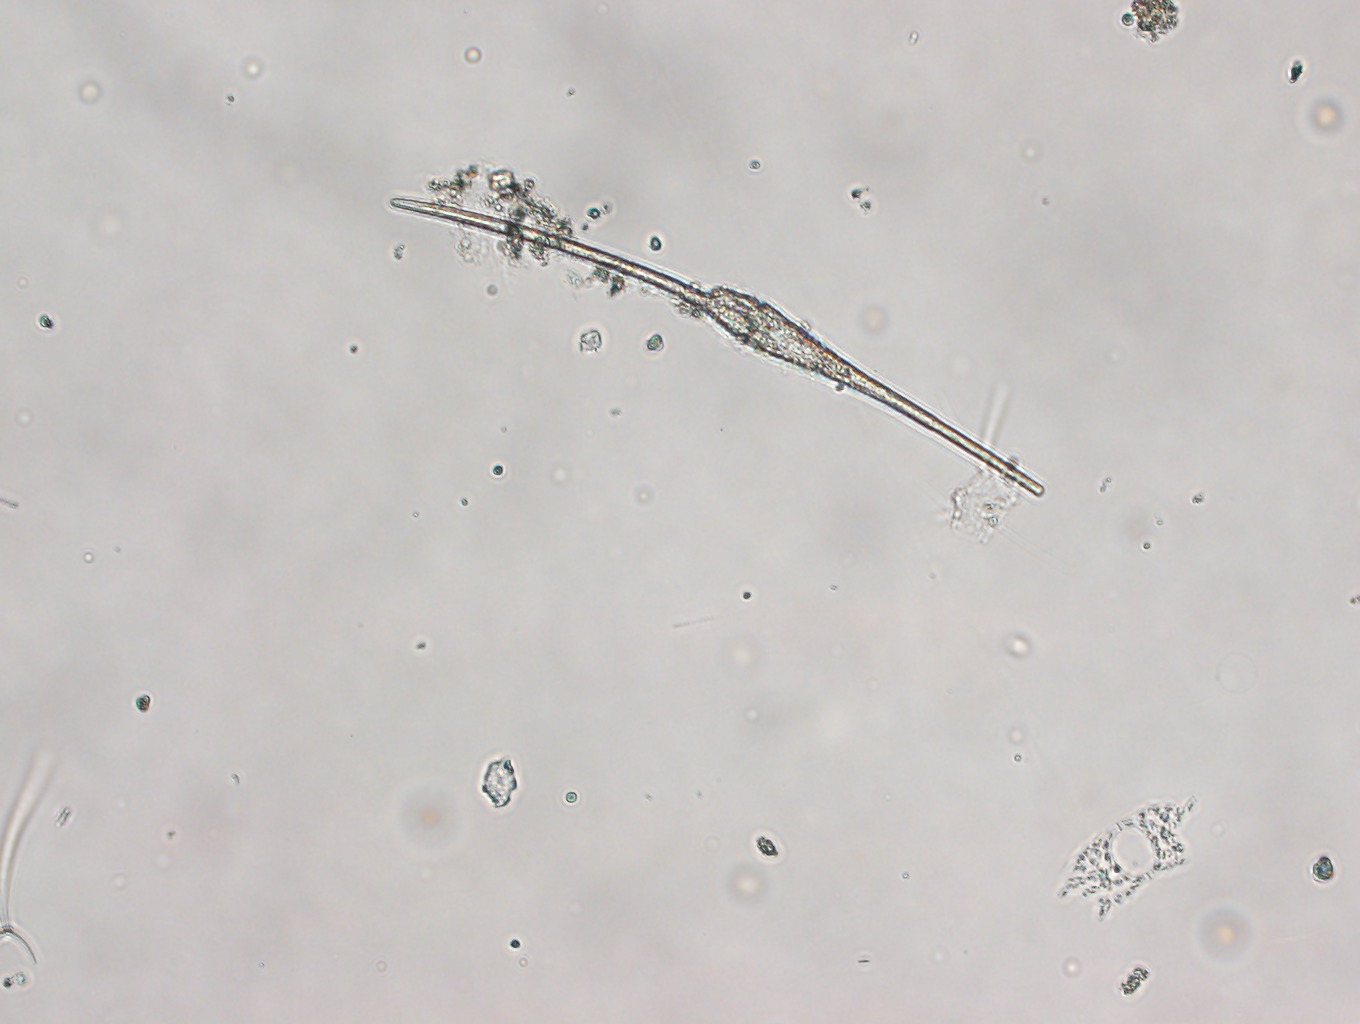ceratium fusus: (380, 189, 1047, 504)
eucampia: (1046, 792, 1202, 923)
